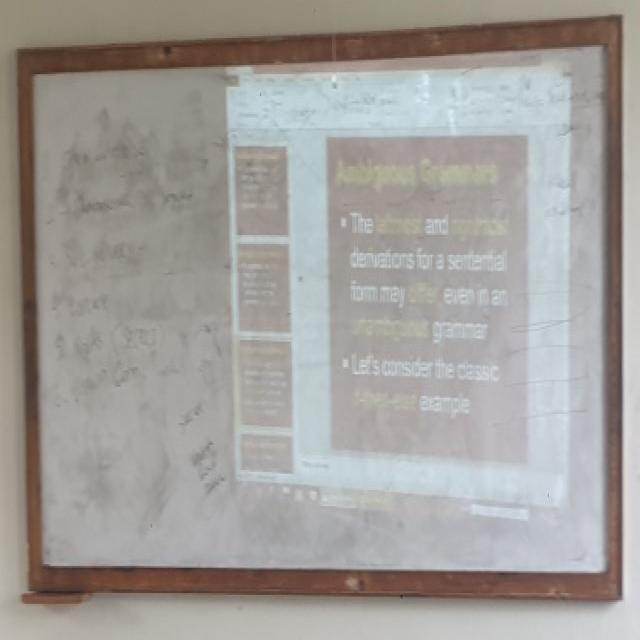Slide: (229, 55, 570, 533)
White-board: (24, 37, 614, 591)
